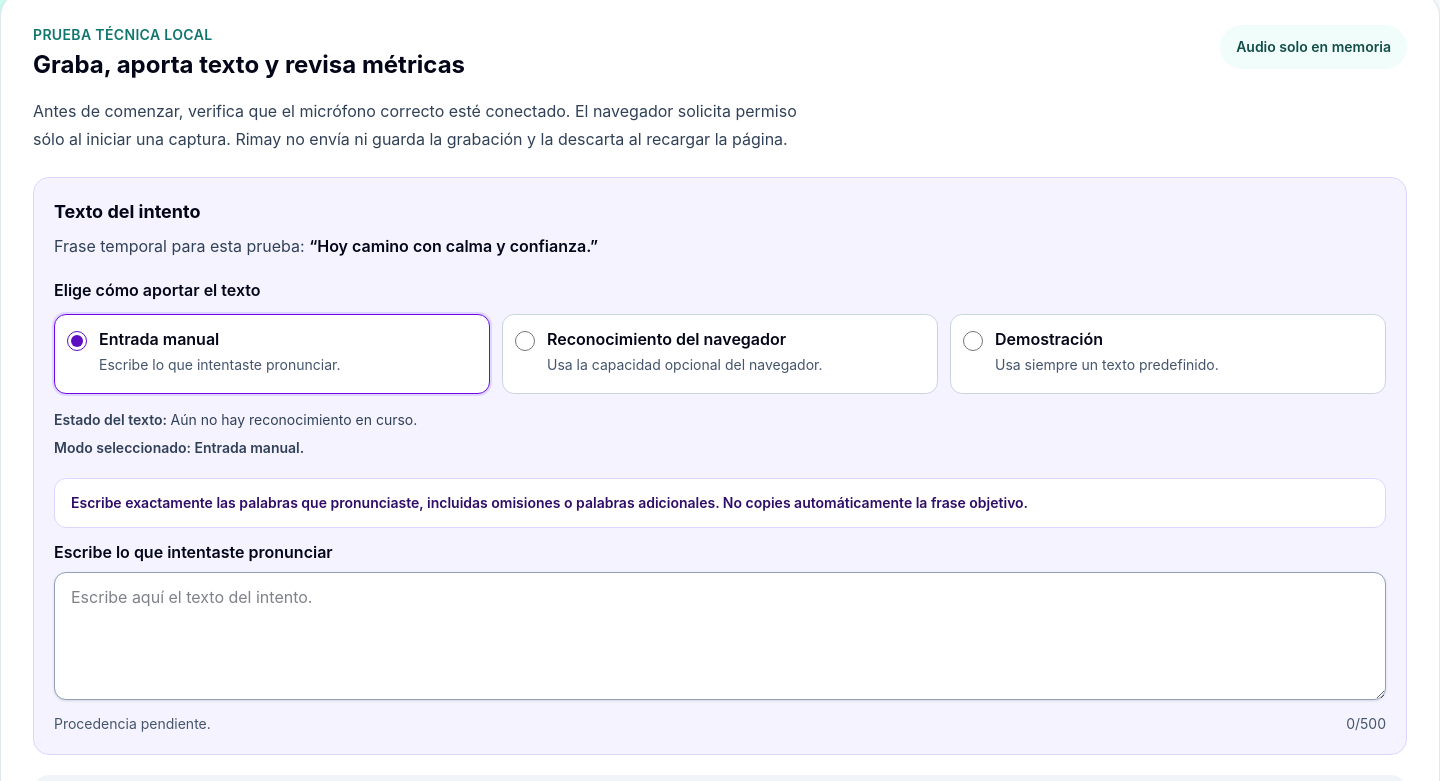
AudioRecorderCard speech text flow › mantiene WPM nulo para texto manual con no_speech_detected
Step 1. Type "Hoy camino con calma y confianza." into the text box labelled "Escribe lo que intentaste pronunciar" → (720, 636), box [54, 572, 1386, 700]
(page scrolled)
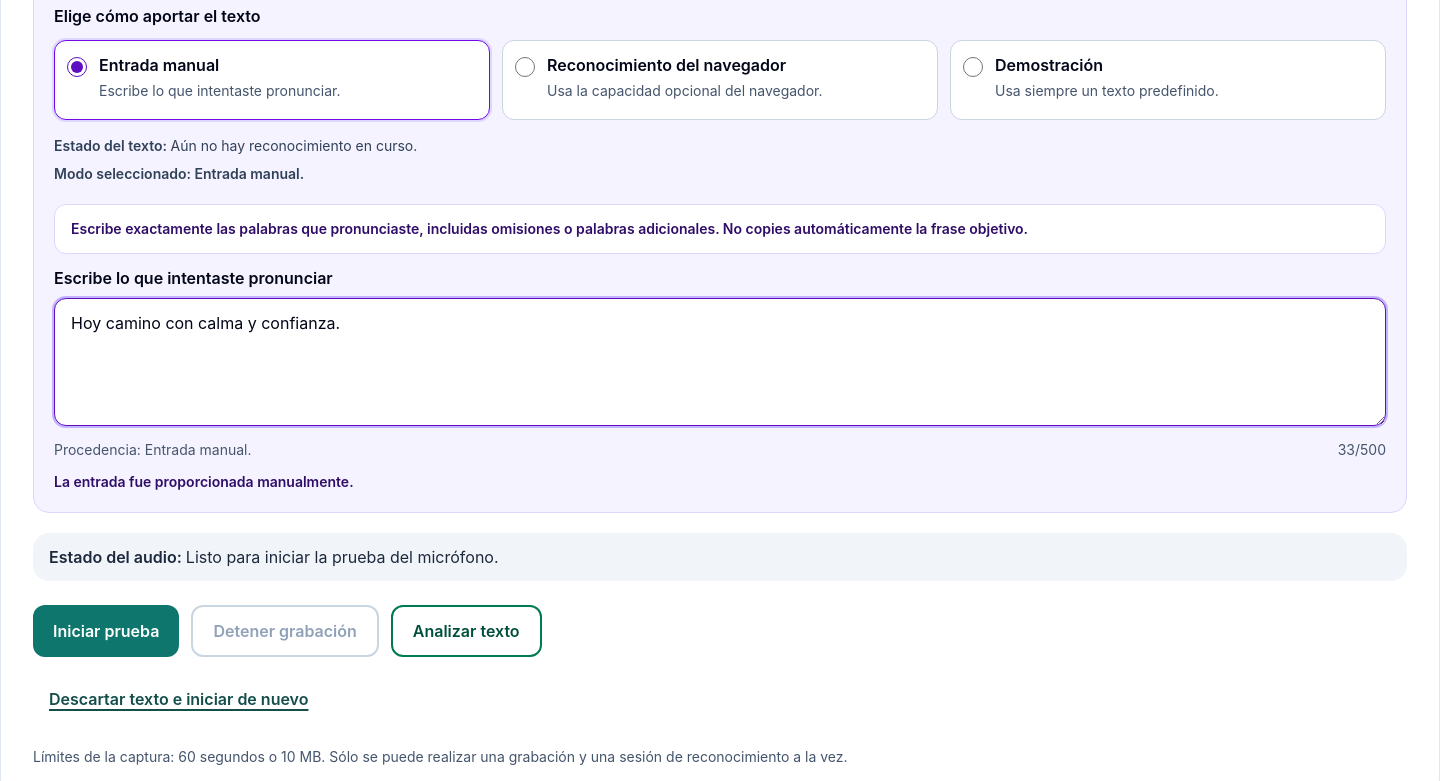
Step 2. Click the button "Iniciar prueba" → (106, 631), box [33, 605, 179, 657]
(page scrolled)
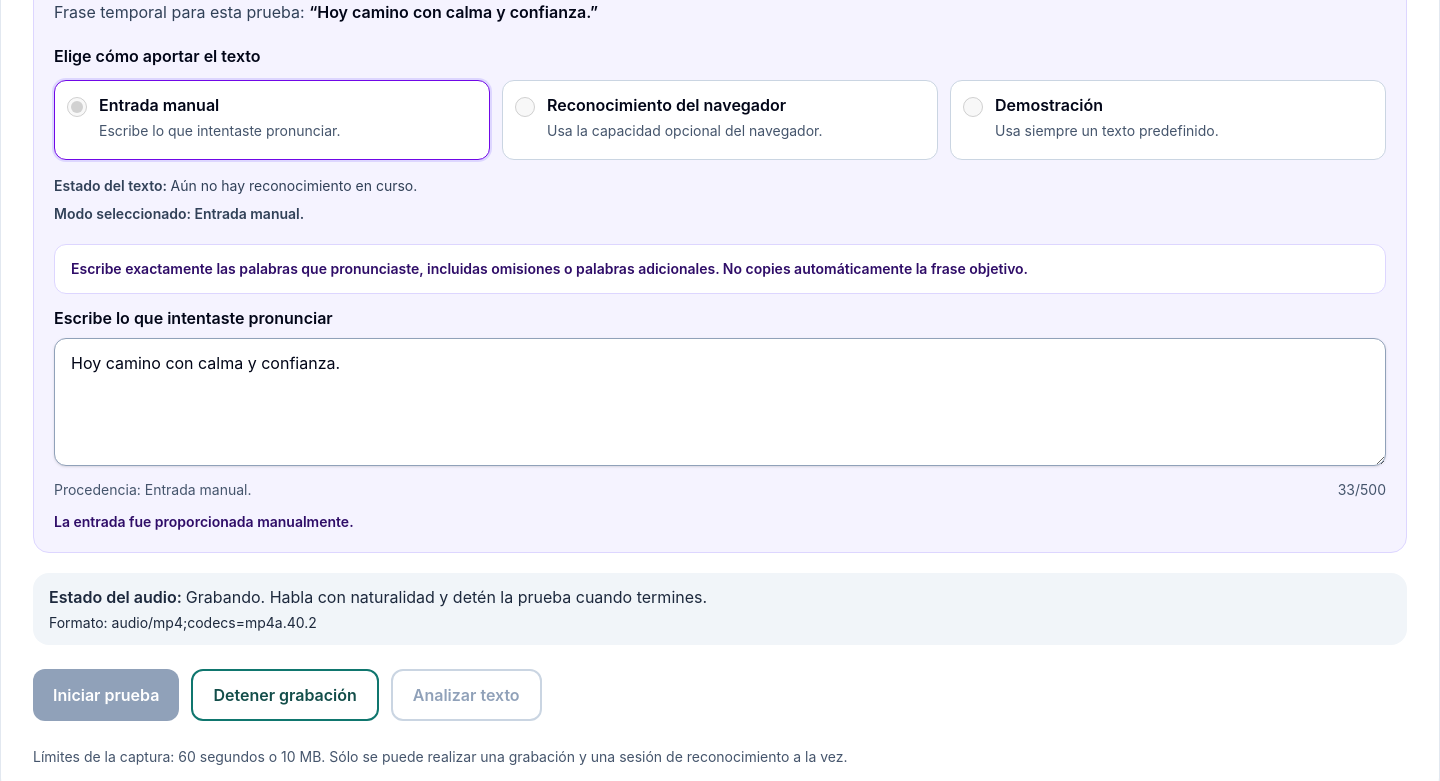
Step 3. Click the button "Detener grabación" → (285, 695), box [191, 669, 379, 721]
(page scrolled)
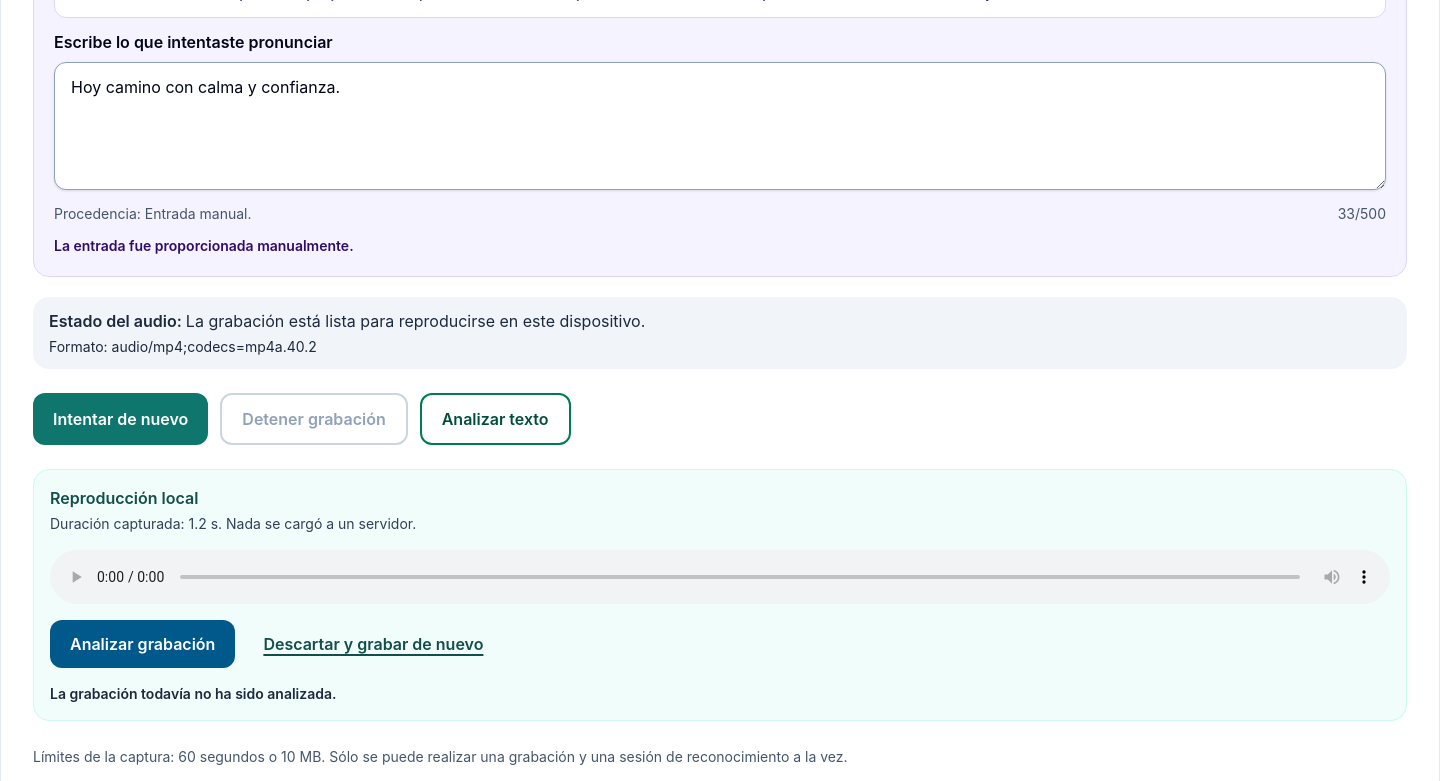
Step 4. Click the button "Analizar grabación" → (143, 644), box [50, 620, 235, 668]
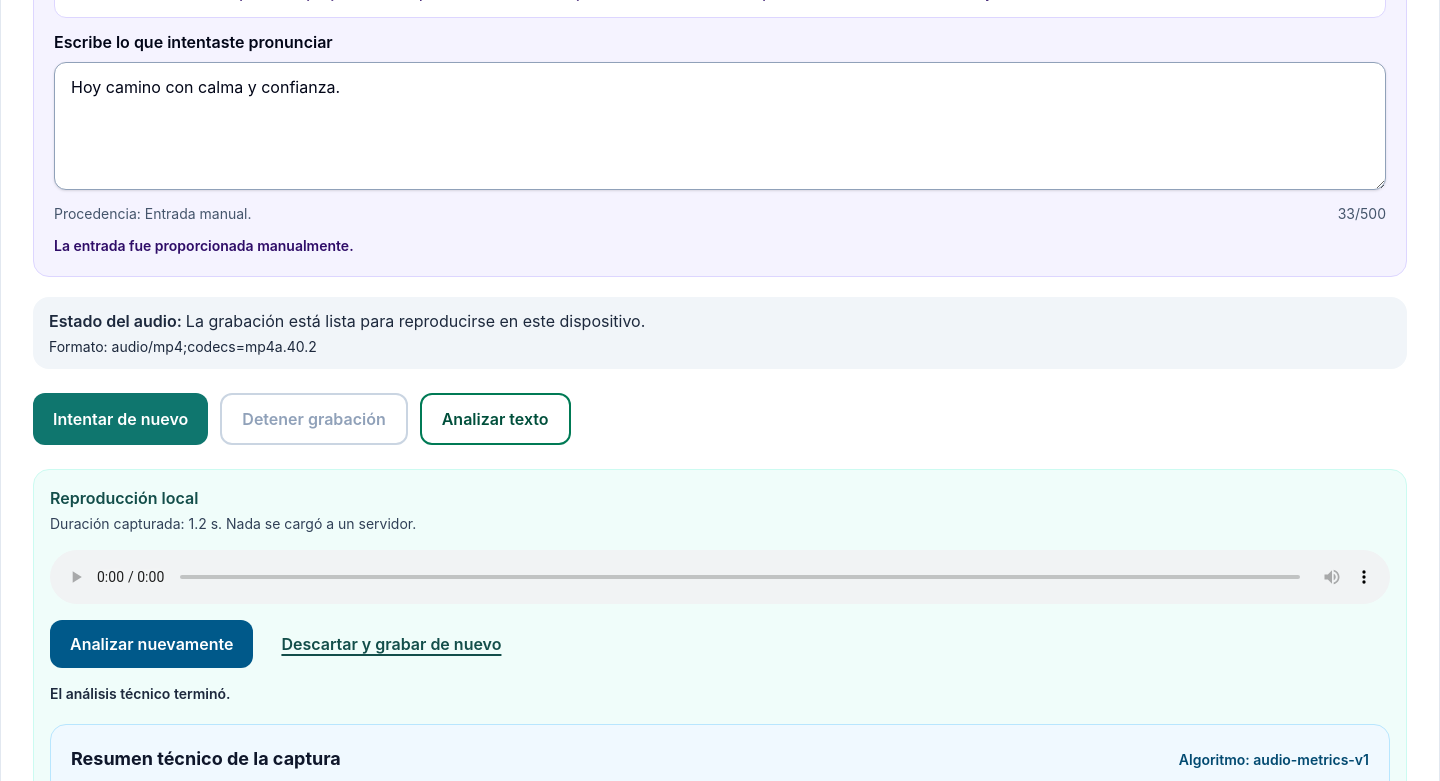
Step 5. Click the button "Analizar texto" → (495, 419), box [420, 393, 570, 445]
(page scrolled)
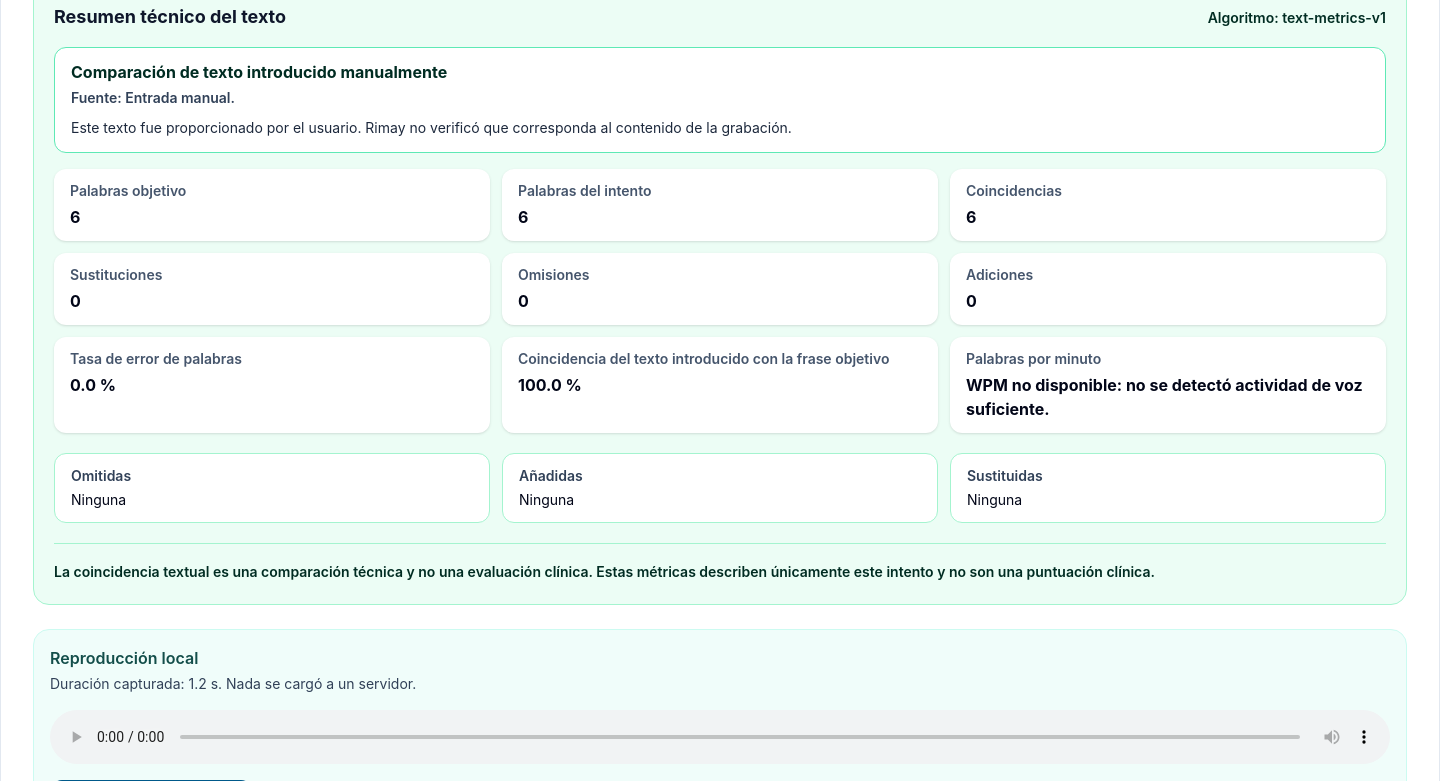
Result: the text "WPM no disponible: no se detectó actividad de voz suficiente." is shown at [966, 373, 1370, 421]
